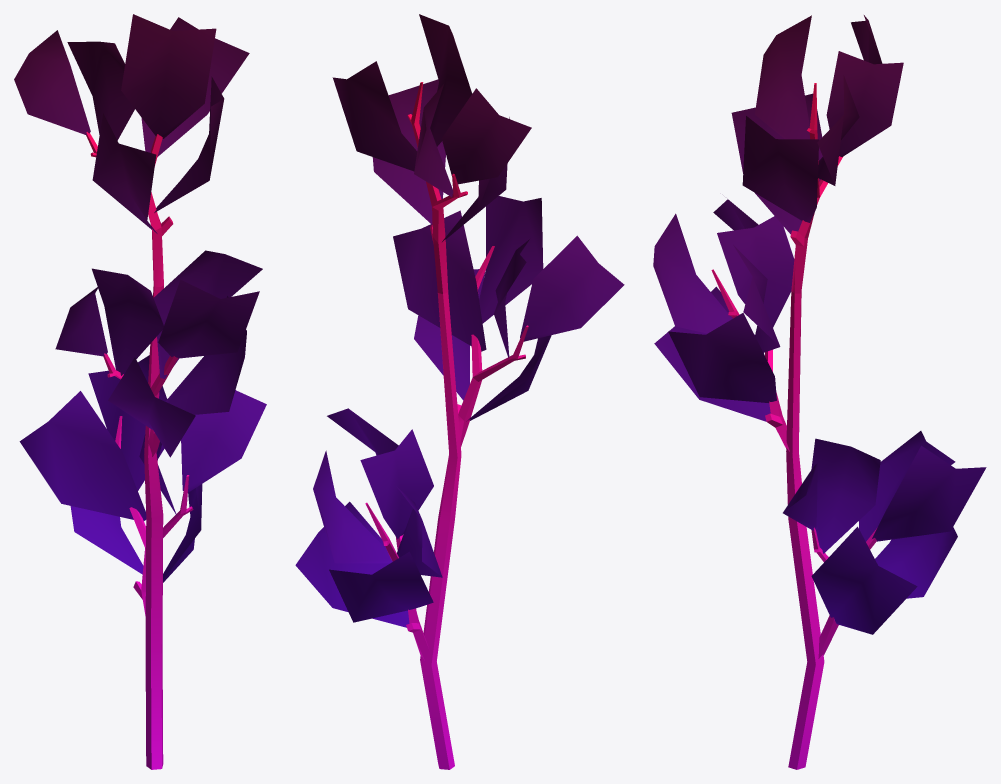
File: synty-tree-dead-01.gltf
3 renders of one model, left to right at view 1: azimuth 30°, elevation 25°; view 2: azimuth 150°, elevation 25°; view 3: azimuth 270°, elevation 25°, orthographic.
Visible parts, largest first — view 1: SM_Tree_Dead_01; view 2: SM_Tree_Dead_01; view 3: SM_Tree_Dead_01.
Boxes of the visible parts, bbox=[...] form: SM_Tree_Dead_01: bbox=[14, 14, 266, 769]; SM_Tree_Dead_01: bbox=[295, 14, 624, 769]; SM_Tree_Dead_01: bbox=[653, 15, 986, 769].
Size of the model in its own units: 1.25 by 3.5 by 1.42.
